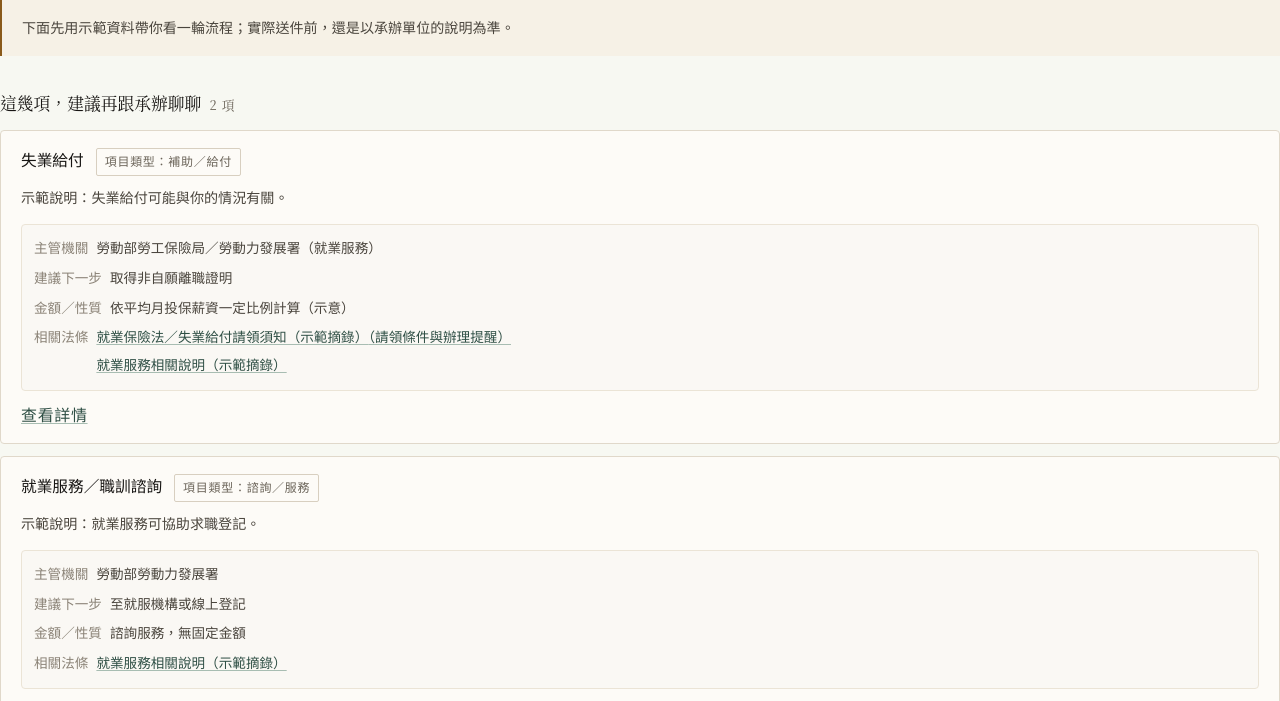
Test: ResultList cards › renders separated cards with a per-item law dialog
The image size is (1280, 701).
Expected: the text "失業給付" is shown, top-left (21, 147), bottom-right (84, 176)
Expected: the text "就業服務／職訓諮詢" is shown, top-left (21, 473), bottom-right (162, 501)
Click the button "就業保險法／失業給付請領須知（示範摘錄）（請領條件與辦理提醒）" at (304, 338), box top-left (96, 326), bottom-right (511, 350)
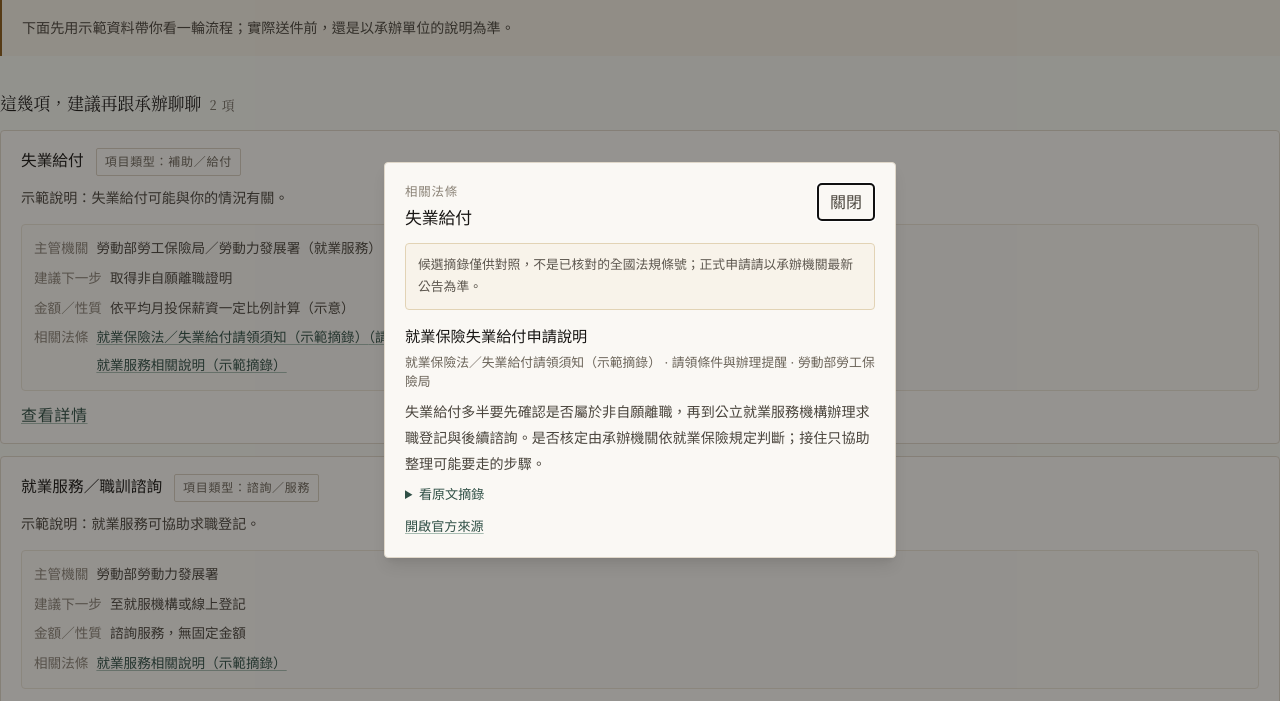
Now the dialog is shown, box top-left (384, 162), bottom-right (896, 558)
Now the heading "就業保險失業給付申請說明" is shown, box top-left (405, 327), bottom-right (587, 346)
Click the button "關閉" at (846, 202), box top-left (817, 183), bottom-right (875, 221)
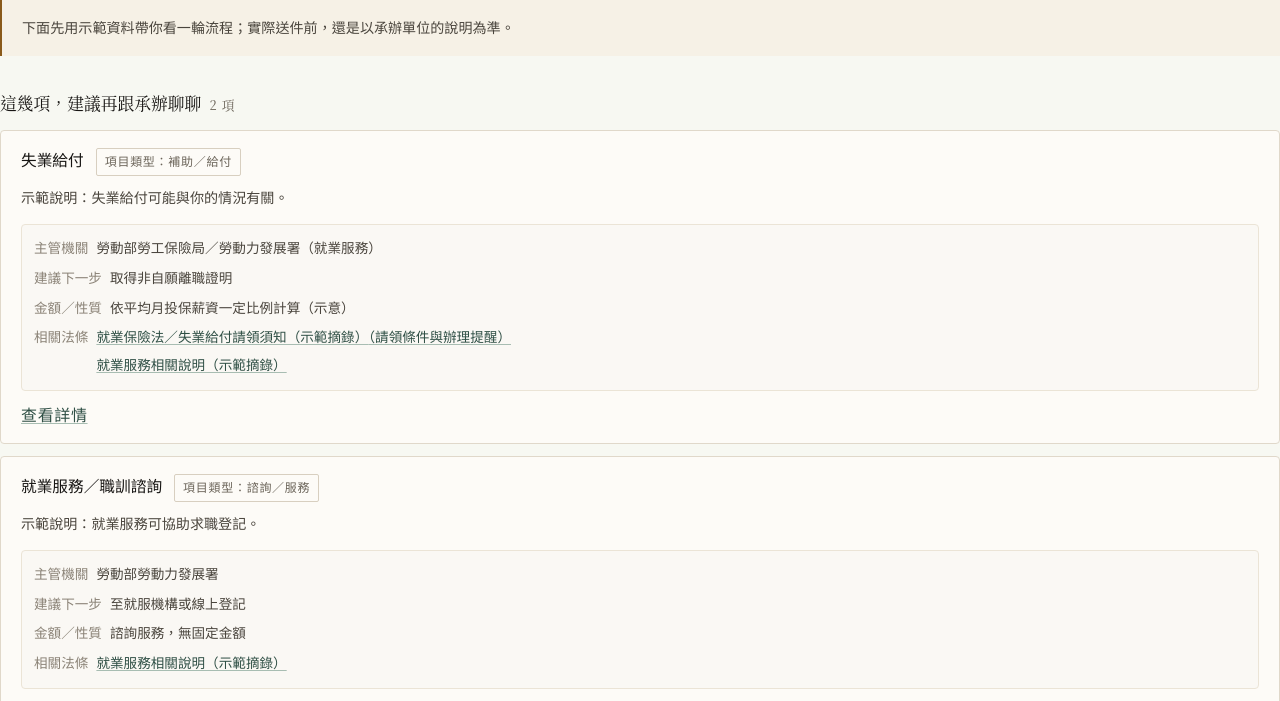
Now the dialog is gone
